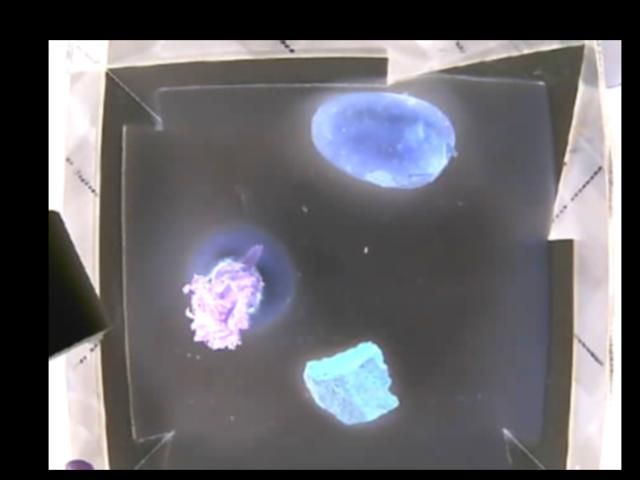Brisk: (302, 343, 403, 425)
Mooli: (187, 228, 296, 348)
Potato: (310, 90, 454, 188)
